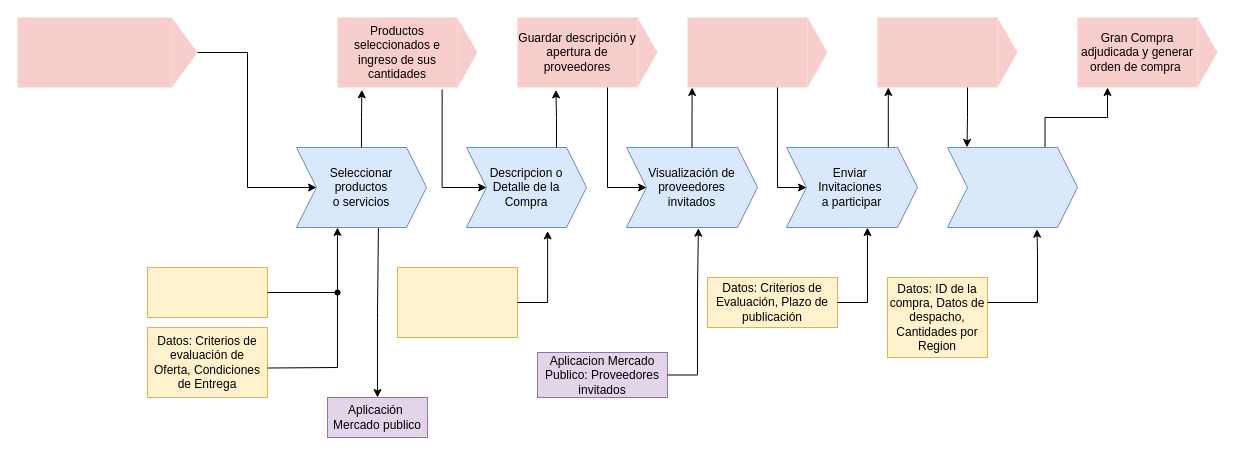
The diagram is 1234 pixels wide and 455 high, and some of its shapes have lost their labels. Each missing label, with the box of its shape:
Datos: Fecha de Decisíon de Compra, Cantidad: (146, 266, 268, 318)
Datos: Nombre, Fecha de Creación, Presupuesto Total Disponible: (396, 266, 518, 338)
Evaluar ofertas recibidas y emitir orden de compra: (946, 146, 1078, 228)
Ingreso del plazo de publicación en Mercado Publico: (877, 17, 997, 87)
Intención de compra de una entidad publica mayor a 1.000 UTM: (17, 17, 171, 87)
Nomina de proveedores confirmada: (687, 17, 807, 87)
